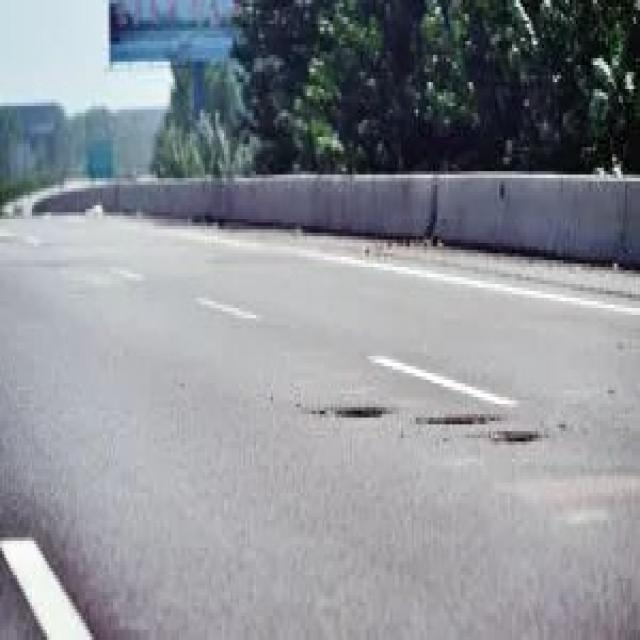Pothole: (301, 407, 546, 455)
